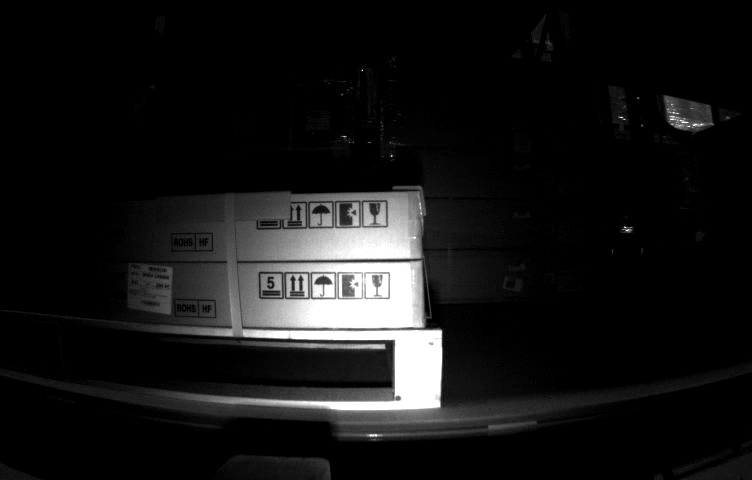True Barcode: (127, 260, 177, 315)
